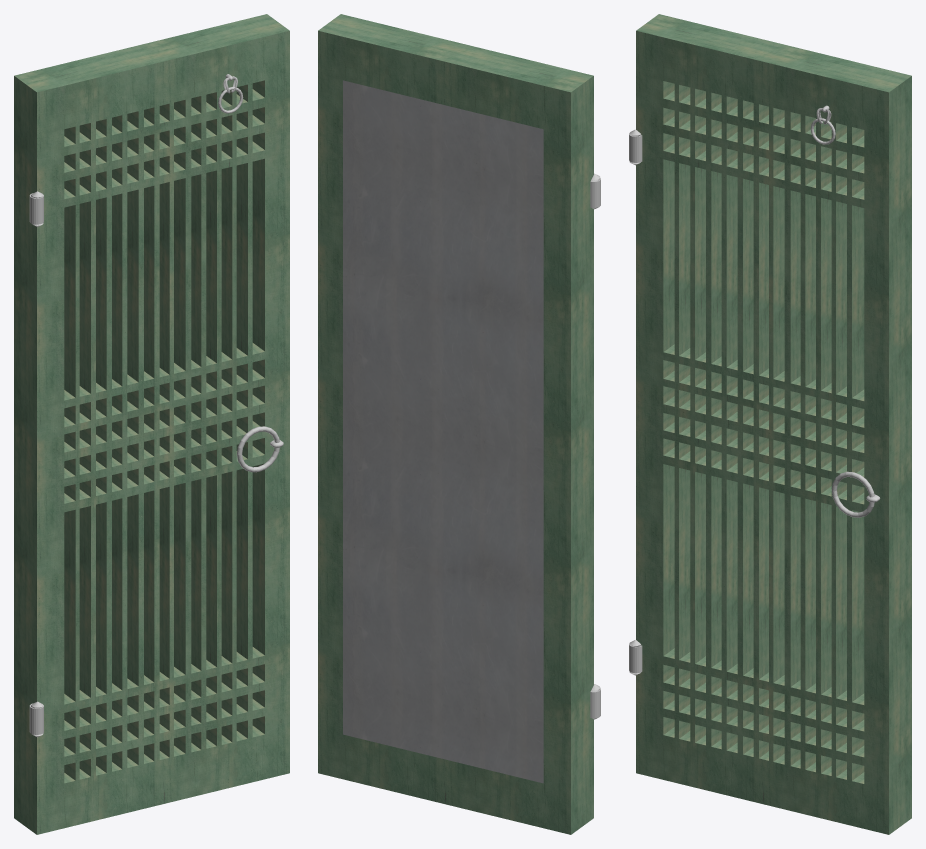
File: SM_D_Wood_1.FBX
3 views of the same model, side by side, from view 1: azimuth 30°, elevation 25°; view 2: azimuth 150°, elevation 25°; view 3: azimuth 330°, elevation 25° (orthographic).
Parts seen in each view (by area): view 1: SM_D_Wood_1; view 2: SM_D_Wood_1; view 3: SM_D_Wood_1.
Boxes of the visible parts, x1,y1,x2,y2 form: SM_D_Wood_1: [14, 14, 289, 834]; SM_D_Wood_1: [318, 14, 600, 834]; SM_D_Wood_1: [629, 14, 911, 834].
Size of the model in its own units: 69.54 by 12.77 by 190.
